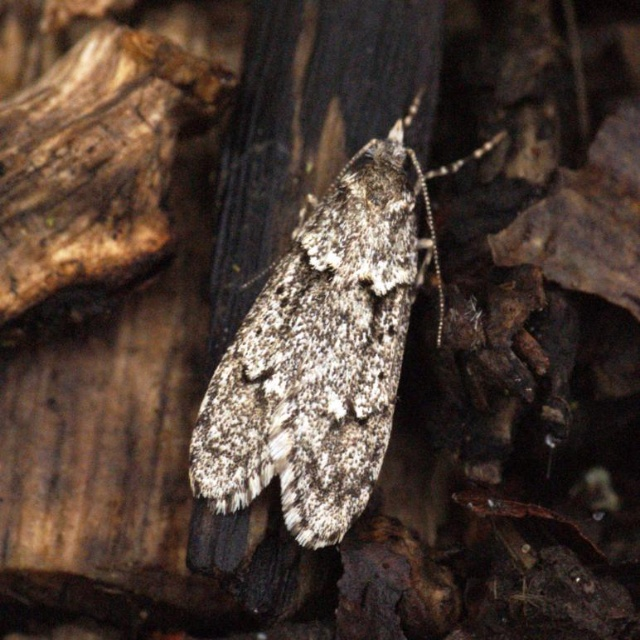Moths and butterflies: (185, 82, 517, 552)
